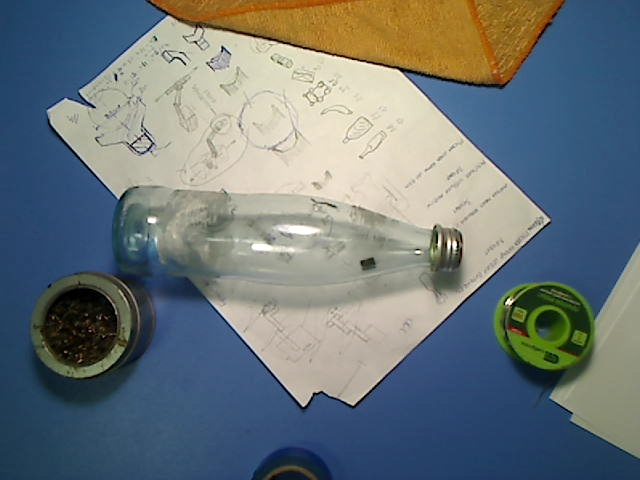bottle: (111, 184, 456, 279)
